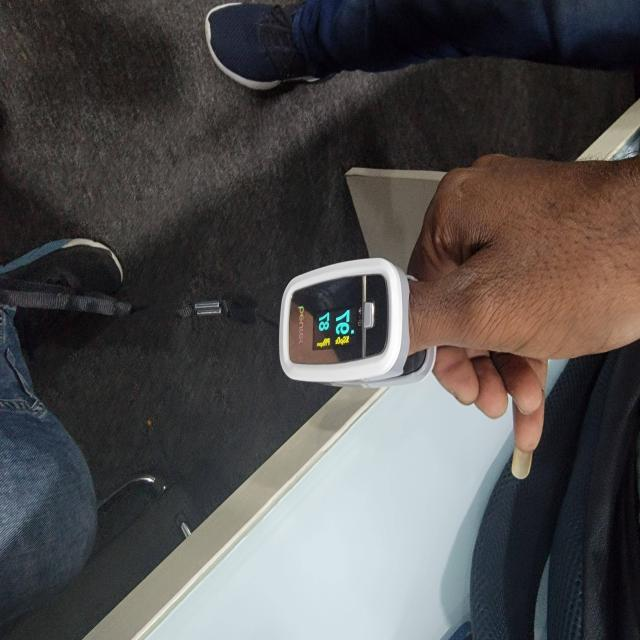spo2: (277, 258, 410, 387)
